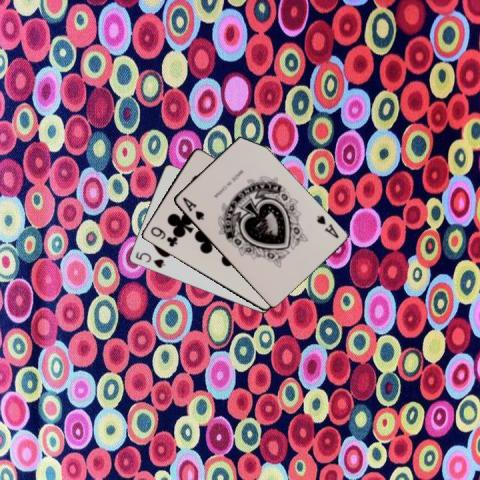5s: (132, 249, 167, 269)
9c: (147, 224, 179, 249)
As: (313, 213, 340, 240), (180, 194, 206, 221)
